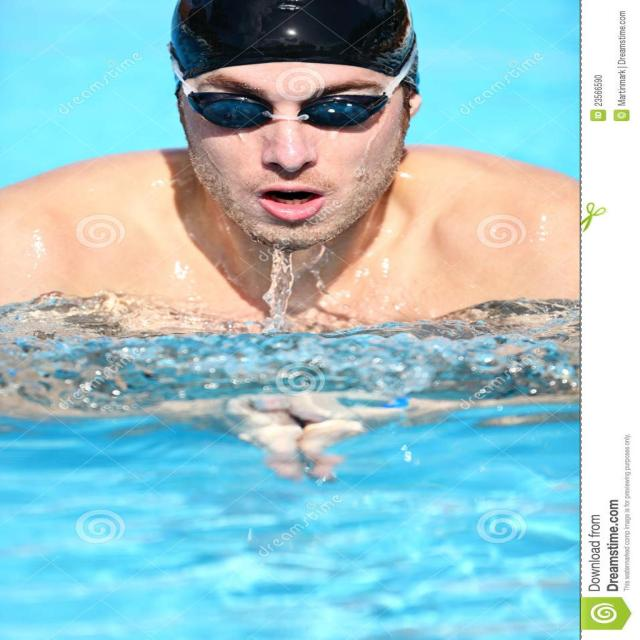Face: (189, 54, 412, 255)
